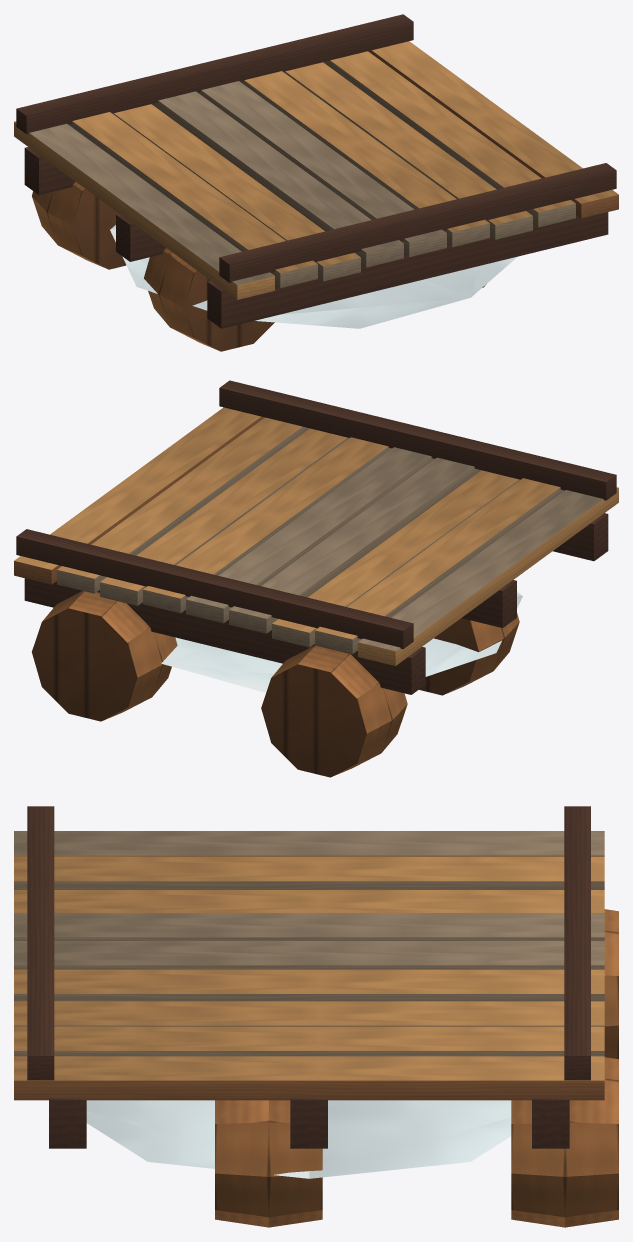
File: dock_pontoon_01.glb
3 renders of one model, top to bottom at view 1: azimuth 30°, elevation 25°; view 2: azimuth 150°, elevation 25°; view 3: azimuth 270°, elevation 25°, orthographic. The views are drawn at different scales.
Visible parts, largest first — view 1: dock_pontoon_01; view 2: dock_pontoon_01; view 3: dock_pontoon_01.
Part boxes in pixels (x1=…): dock_pontoon_01: x1=14, y1=14, x2=618, y2=351; dock_pontoon_01: x1=14, y1=380, x2=618, y2=777; dock_pontoon_01: x1=14, y1=806, x2=618, y2=1227.
Size of the model in its own units: 2.19 by 0.8638 by 2.25.
Materials: 1 (1 with a texture image).
